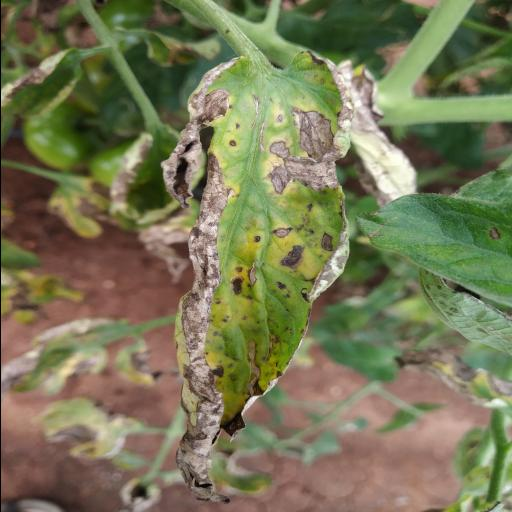Early Blight: (160, 50, 354, 504)
